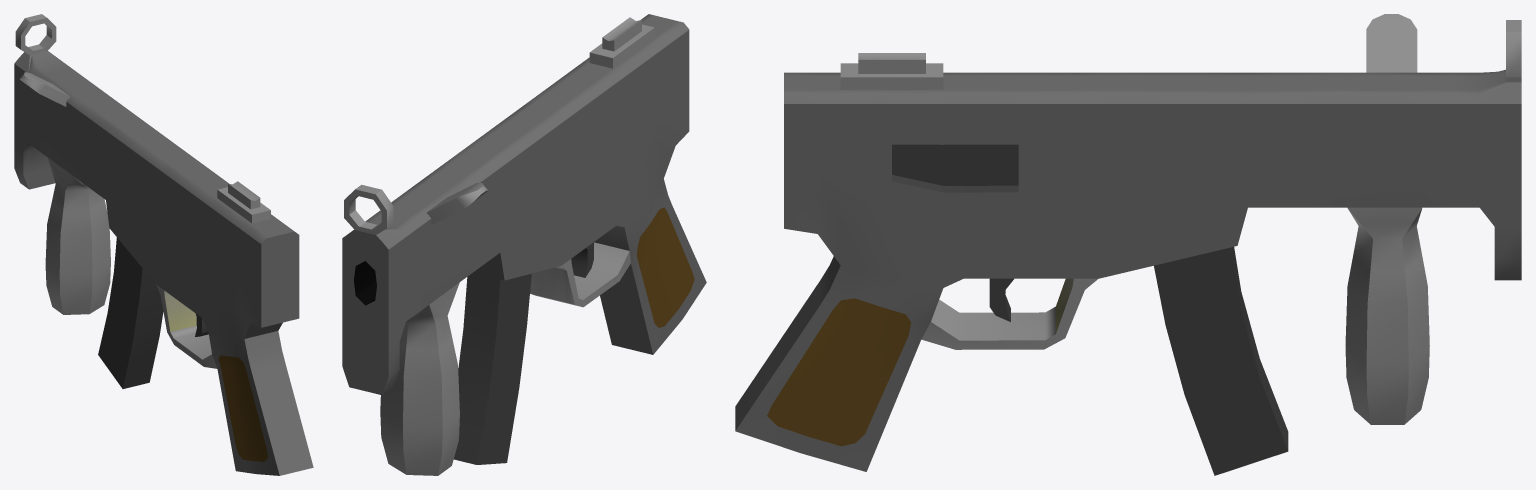
The model's file is wpn_smg.glb.
The picture shows the model from 3 angles, left to right: view 1: azimuth 30°, elevation 25°; view 2: azimuth 150°, elevation 25°; view 3: azimuth 270°, elevation 25°; orthographic projection. The views are drawn at different scales.
Visible parts, largest first — view 1: wpn_smg; view 2: wpn_smg; view 3: wpn_smg.
Boxes of the visible parts, <box> form: wpn_smg: <box>14,14,313,475</box>; wpn_smg: <box>342,14,706,475</box>; wpn_smg: <box>735,14,1521,475</box>.
Size of the model in its own units: 0.0955 by 0.3395 by 0.55.
1 material, 1 textured.
